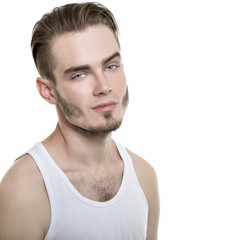young: (40, 13, 132, 136)
